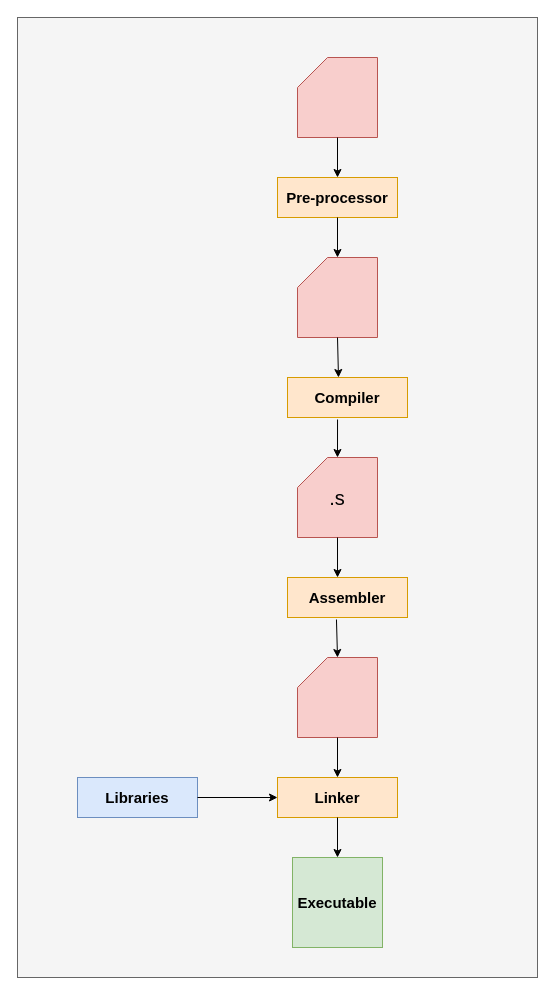
The diagram is 555 pixels wide and 995 high, and some of its shapes have lost their labels. Each missing label, with the centre of its shape:
.c: (x=337, y=97)
.i: (x=337, y=297)
.o: (x=337, y=697)
